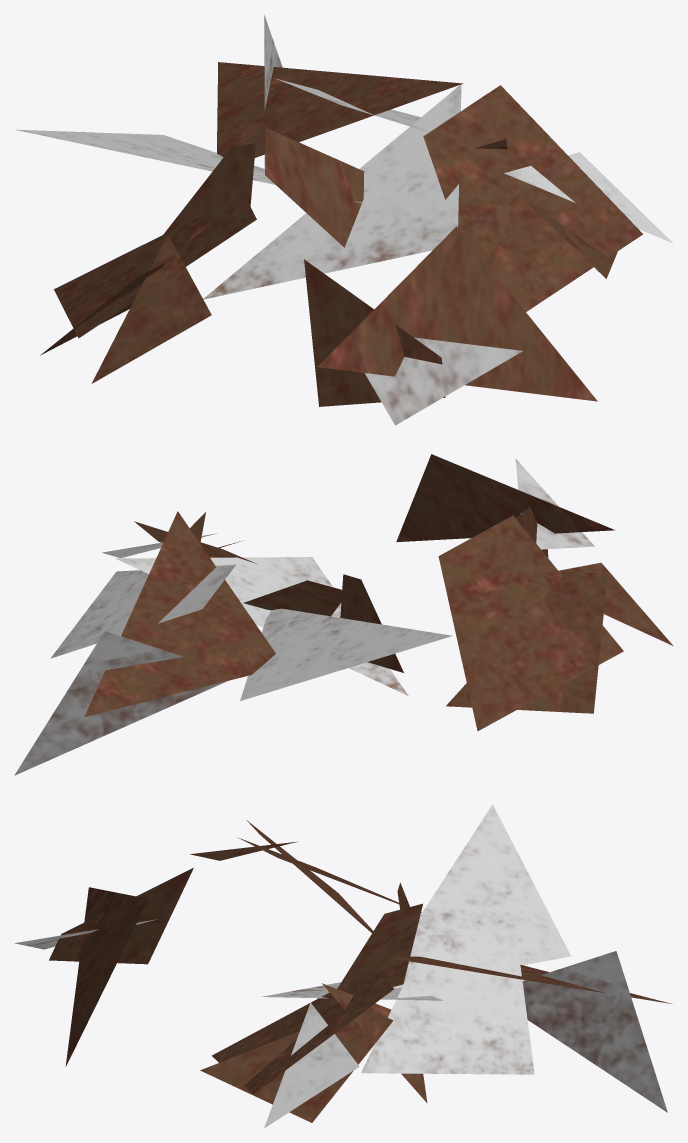
File: Trash2.fbx
3 views of the same model, one above another, from view 1: azimuth 30°, elevation 25°; view 2: azimuth 150°, elevation 25°; view 3: azimuth 270°, elevation 25° (orthographic). The views are drawn at different scales.
Parts seen in each view (by area): view 1: Trash.001; view 2: Trash.001; view 3: Trash.001.
Part boxes in pixels (x1,y1,x2,y2): Trash.001: (15,15,673,425); Trash.001: (14,454,673,775); Trash.001: (15,804,671,1128).
Bounding box in the file's own units: 601351 × 528173 × 152026.
2 materials, 2 textured.
